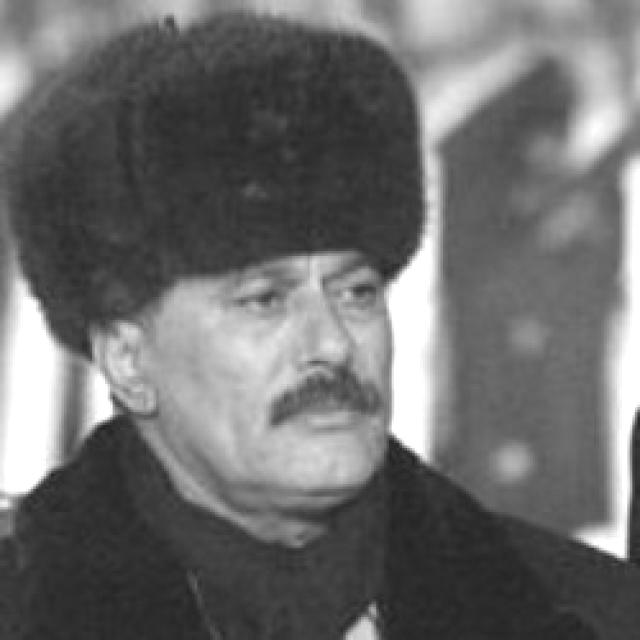real: (151, 256, 397, 500), (224, 265, 395, 324)
